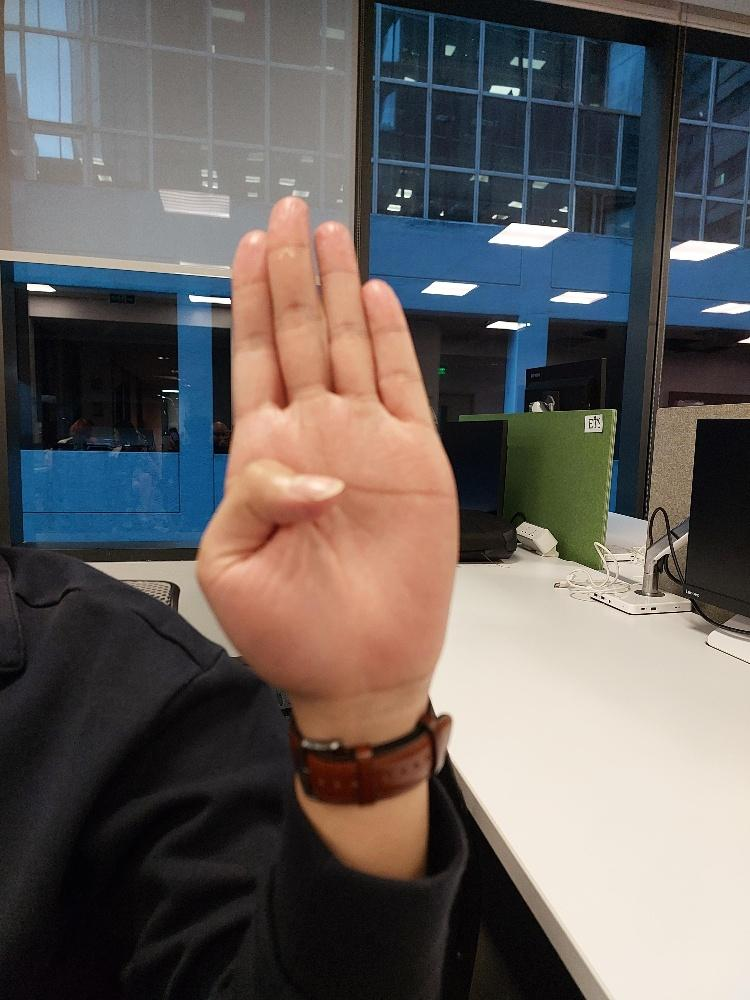b: (192, 193, 458, 691)
